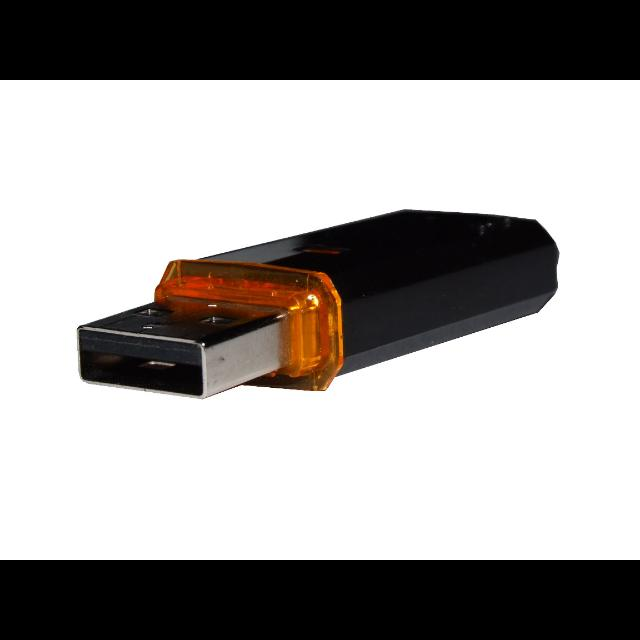USB-Flash-Drive: (73, 174, 561, 446)
